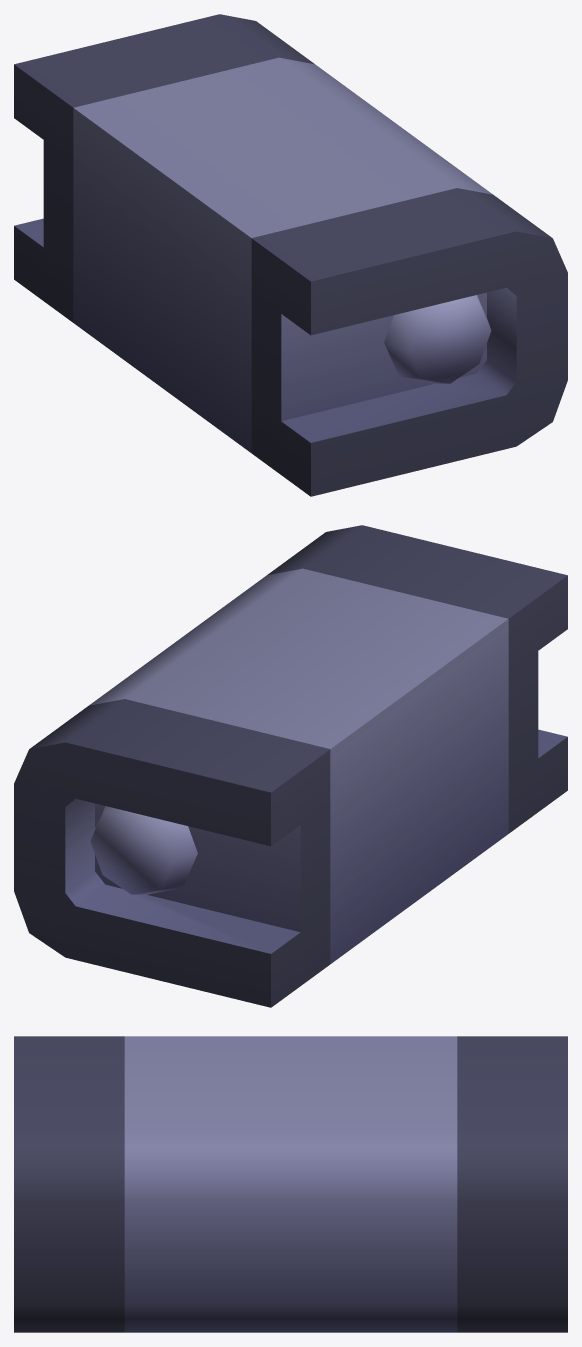
The model's file is kenney-factory-conveyor-stripe-part-end.glb.
The picture shows the model from 3 angles, top to bottom: view 1: azimuth 30°, elevation 25°; view 2: azimuth 150°, elevation 25°; view 3: azimuth 270°, elevation 25°; orthographic projection. The views are drawn at different scales.
Parts seen in each view (by area): view 1: conveyor-stripe-part-end; view 2: conveyor-stripe-part-end; view 3: conveyor-stripe-part-end.
Boxes of the visible parts, box(x1,y1,x2,y2) form: conveyor-stripe-part-end: box(14, 14, 567, 496); conveyor-stripe-part-end: box(14, 525, 567, 1007); conveyor-stripe-part-end: box(14, 1036, 567, 1332).
Bounding box in the file's own units: 0.5001 × 0.3999 × 1.
Materials: 1 (1 with a texture image).
